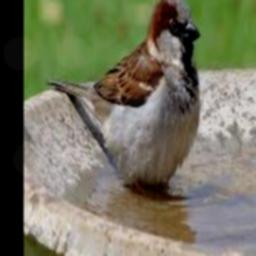Sparrow: (46, 0, 200, 191)
